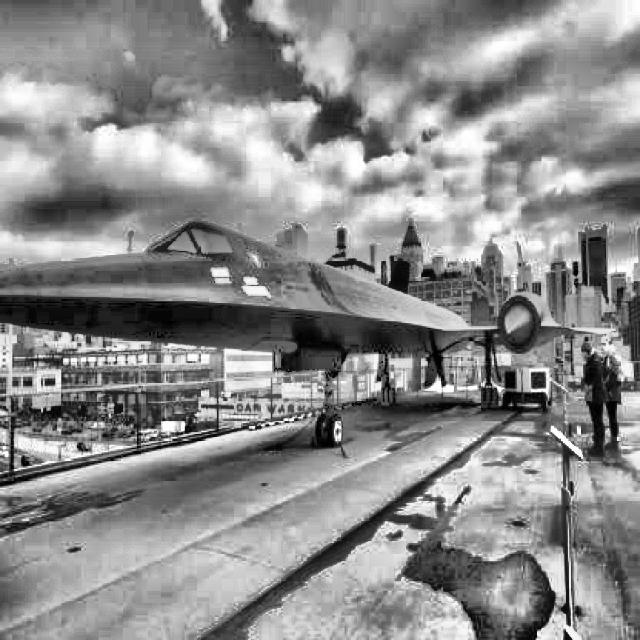SR71: (0, 220, 618, 447)
